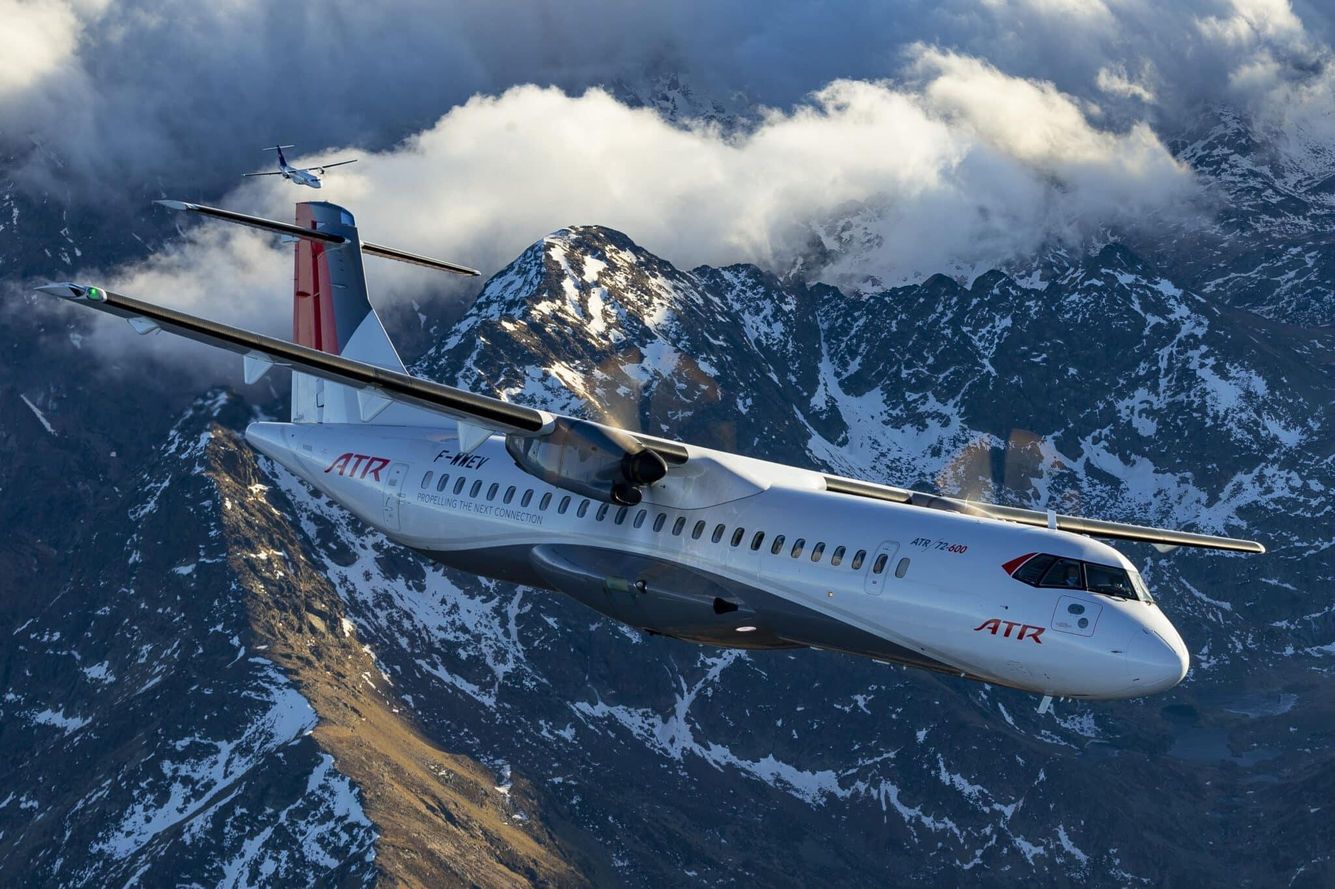aircraft: (50, 186, 1250, 711)
